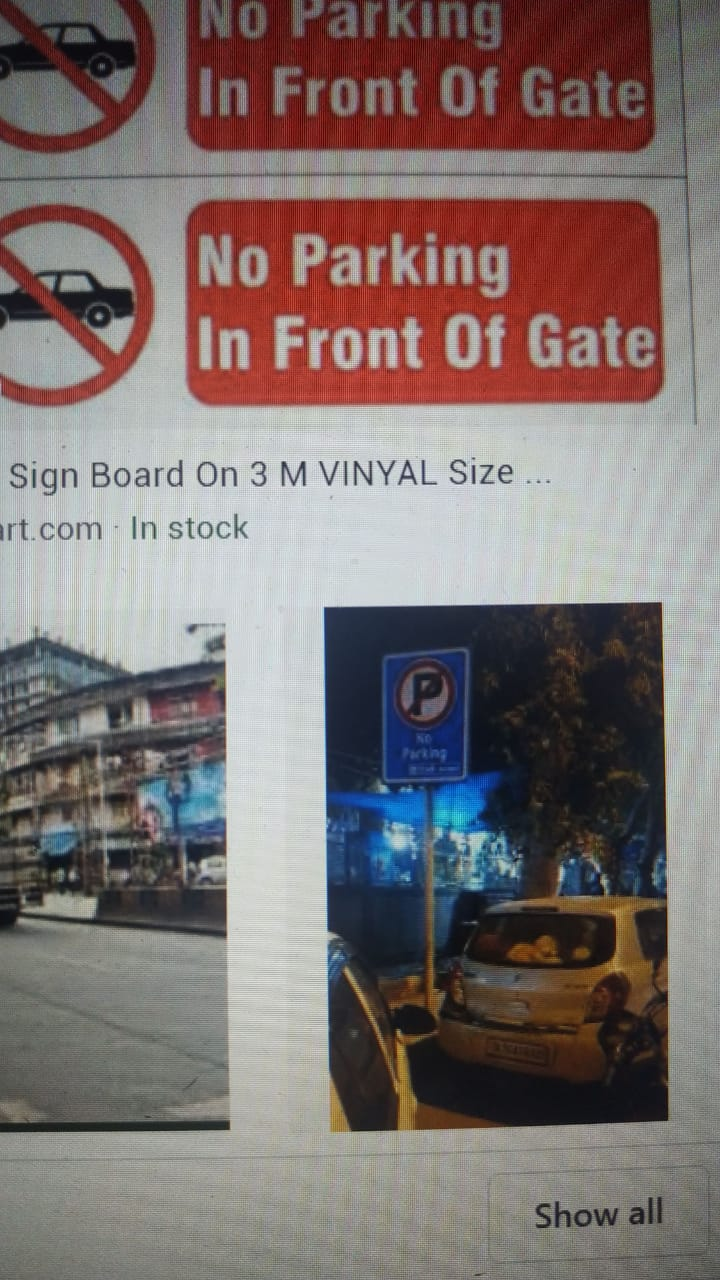NO PARKING: (374, 644, 501, 788)
